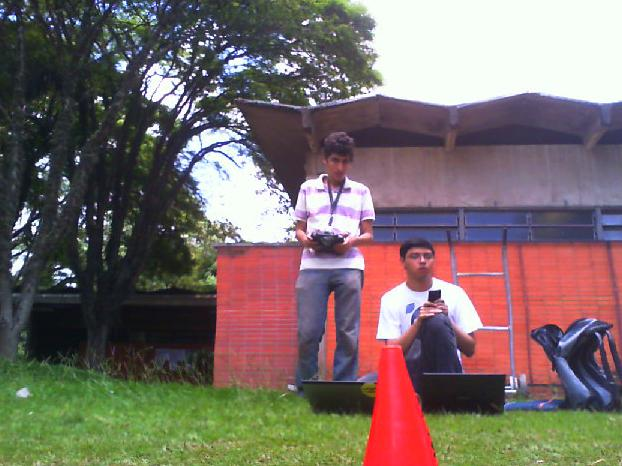0 cone: (360, 345, 441, 466)
